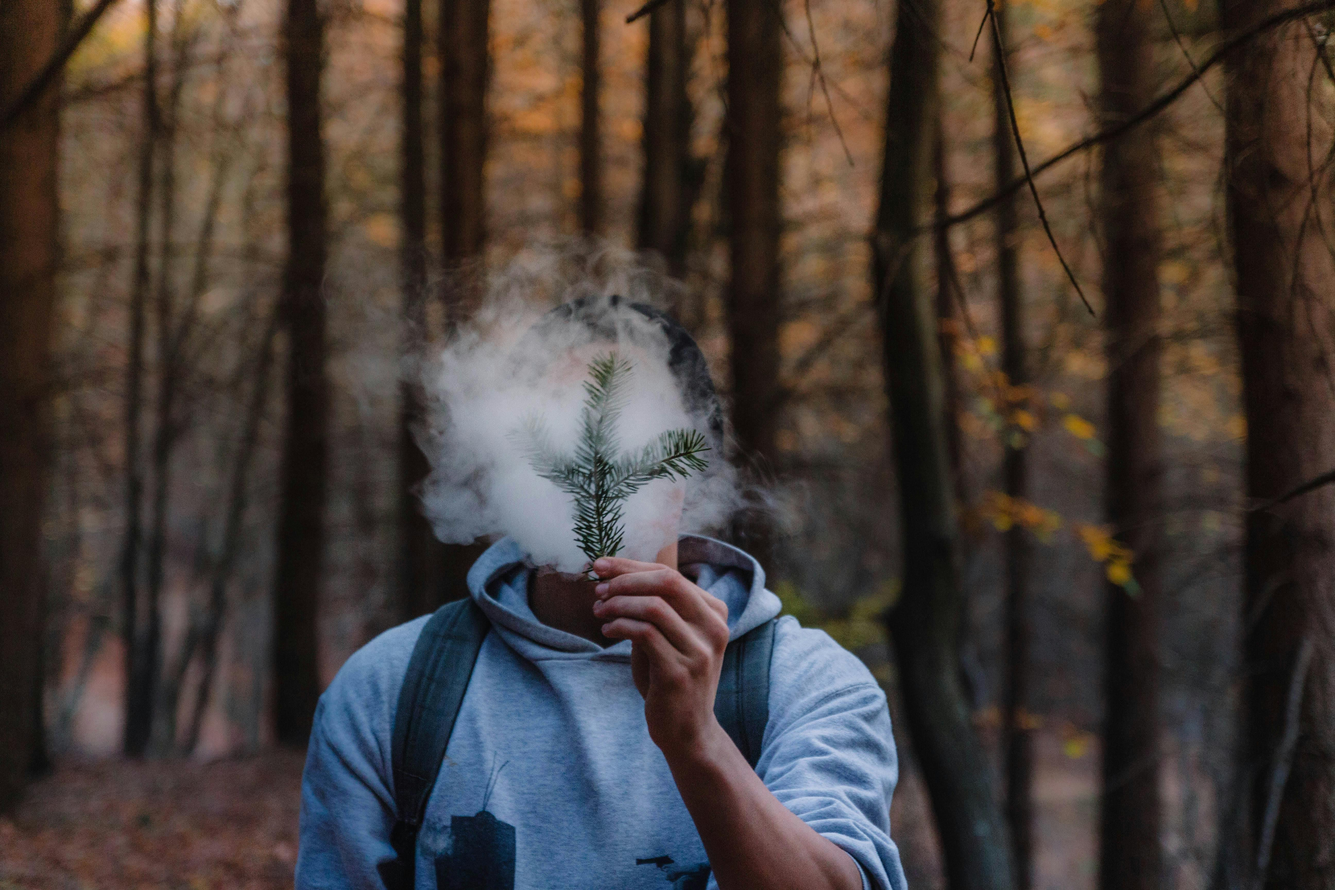smoker: (304, 189, 949, 890)
